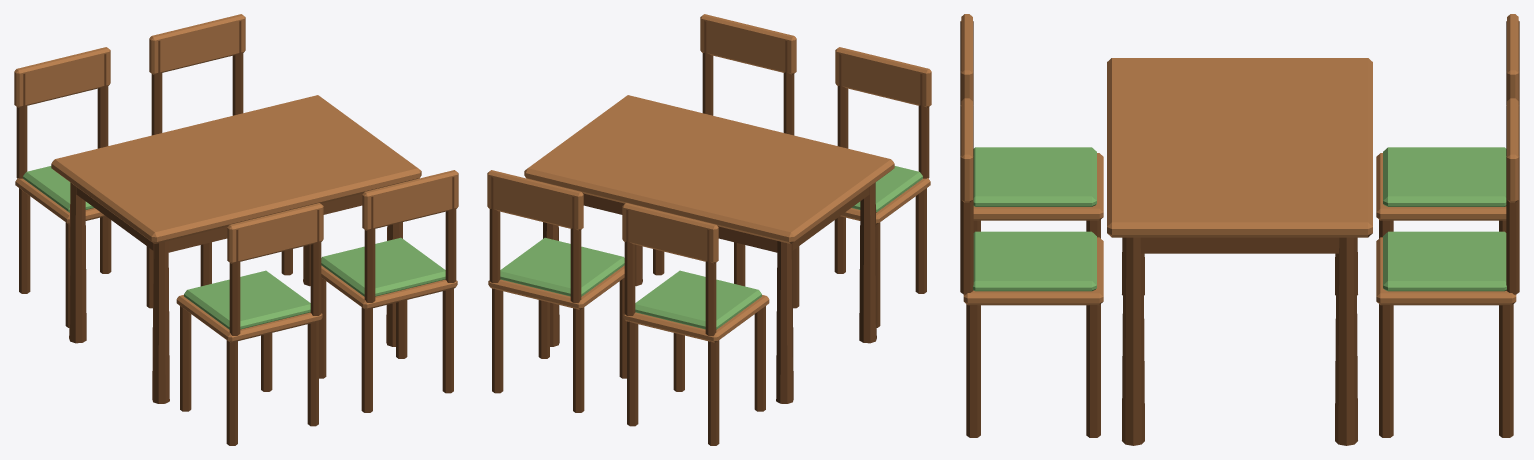
The model's file is home_table_chairs_v01.glb.
3 renders of one model, left to right at view 1: azimuth 30°, elevation 25°; view 2: azimuth 150°, elevation 25°; view 3: azimuth 270°, elevation 25°, orthographic. The views are drawn at different scales.
Parts seen in each view (by area): view 1: table, chair_1, chair_2, chair_3, chair_4; view 2: table, chair_3, chair_4, chair_1, chair_2; view 3: table, chair_2, chair_4, chair_1, chair_3.
Boxes of the visible parts, box(x1,y1,x2,y2) form: table: box(51, 95, 421, 403); chair_1: box(176, 203, 323, 445); chair_2: box(319, 170, 458, 412); chair_3: box(14, 47, 153, 327); chair_4: box(149, 14, 292, 286); table: box(524, 95, 894, 403); chair_3: box(622, 203, 769, 445); chair_4: box(487, 170, 626, 412); chair_1: box(792, 47, 931, 327); chair_2: box(653, 14, 796, 286); table: box(1107, 58, 1372, 445); chair_2: box(960, 98, 1103, 437); chair_4: box(1376, 98, 1519, 437); chair_1: box(960, 14, 1103, 238); chair_3: box(1376, 14, 1519, 238).
Size of the model in its own units: 1.2 by 0.94 by 1.68.
